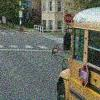buses: (55, 3, 100, 99)
